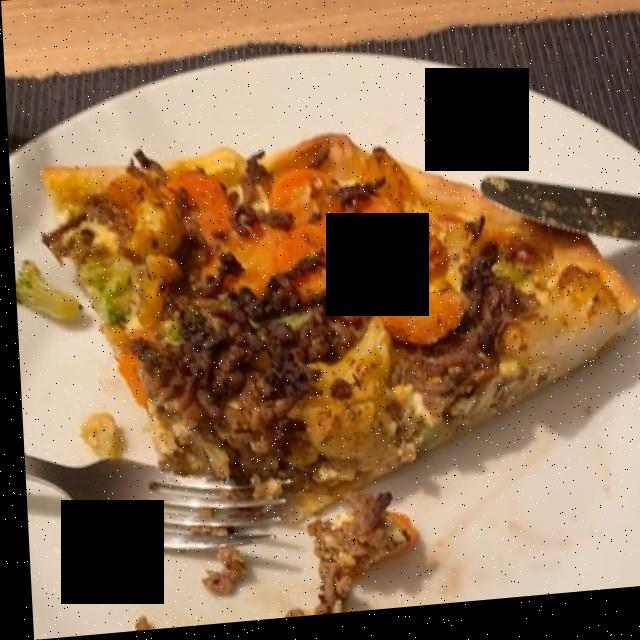beef-cut-into-stripes-only-meat: (120, 259, 363, 491)
mixed-vegetables: (62, 149, 602, 421)
